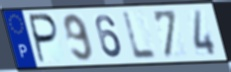4: (192, 8, 217, 57)
6: (94, 13, 124, 59)
7: (152, 9, 178, 60)
9: (62, 12, 95, 63)
L: (121, 10, 159, 61)
P: (28, 13, 61, 65)
